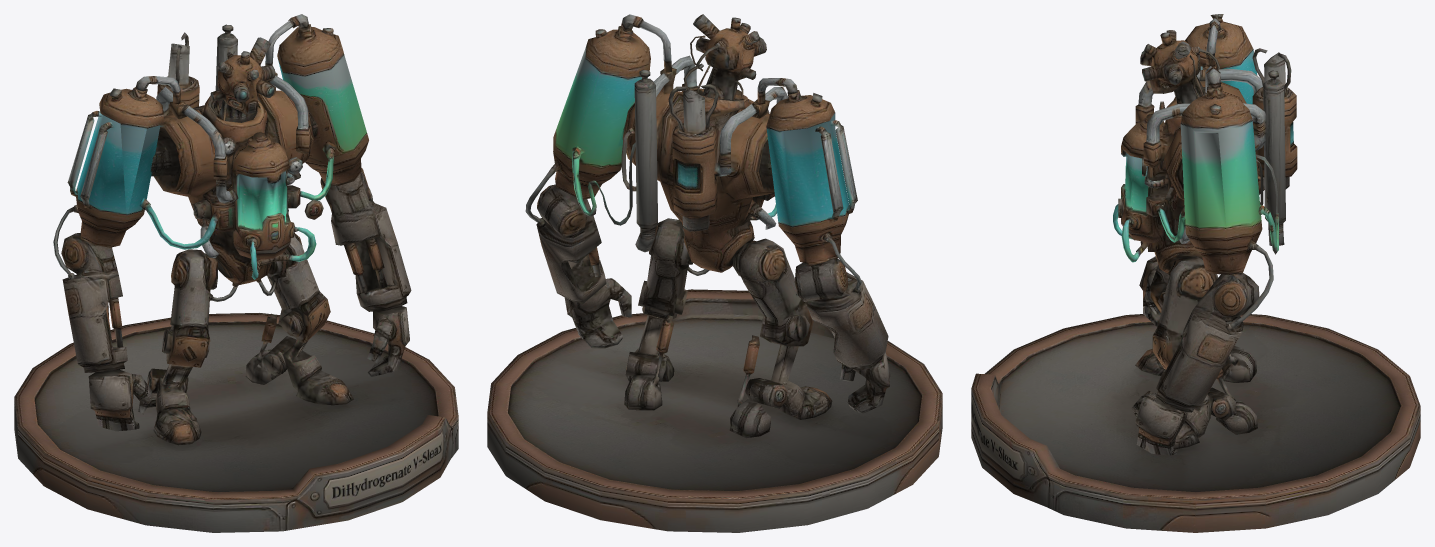
The model's file is 019e2e83-a2bf-7040-ab8c-4b82cfeacad5.glb.
3 renders of one model, left to right at view 1: azimuth 30°, elevation 25°; view 2: azimuth 150°, elevation 25°; view 3: azimuth 270°, elevation 25°, orthographic. The views are drawn at different scales.
Visible parts, largest first — view 1: tripo_node_b9321778-c063-47f7-945d-d6375b224fb6; view 2: tripo_node_b9321778-c063-47f7-945d-d6375b224fb6; view 3: tripo_node_b9321778-c063-47f7-945d-d6375b224fb6.
Boxes of the visible parts, <box> form: tripo_node_b9321778-c063-47f7-945d-d6375b224fb6: <box>14,14,458,532</box>; tripo_node_b9321778-c063-47f7-945d-d6375b224fb6: <box>487,14,942,532</box>; tripo_node_b9321778-c063-47f7-945d-d6375b224fb6: <box>971,14,1420,532</box>.
Bounding box in the file's own units: 0.998 × 0.9941 × 0.998.
1 material, 1 textured.
